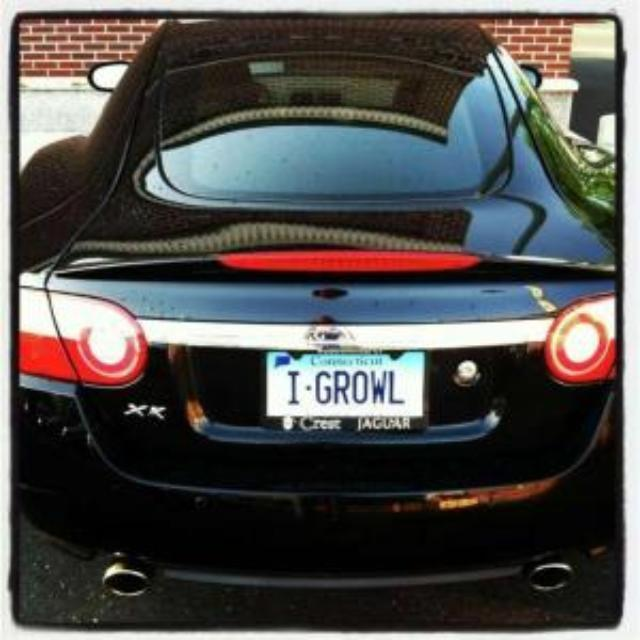License Plate: (267, 351, 425, 419)
